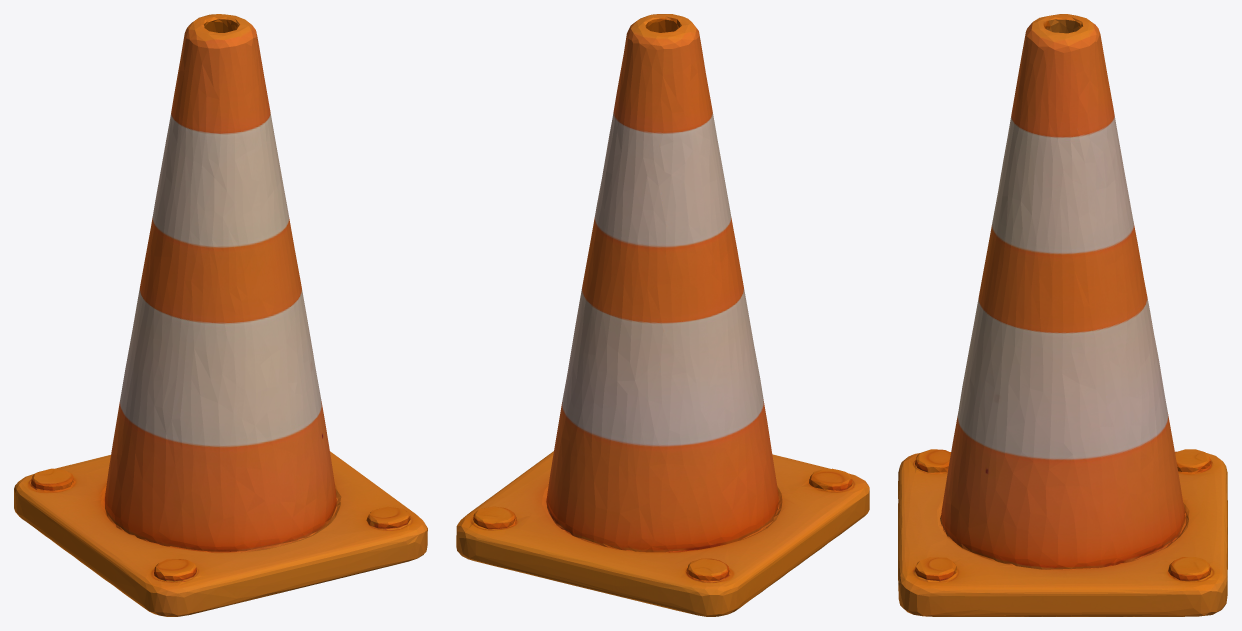
3 renders of one model, left to right at view 1: azimuth 30°, elevation 25°; view 2: azimuth 150°, elevation 25°; view 3: azimuth 270°, elevation 25°, orthographic. The views are drawn at different scales.
Parts seen in each view (by area): view 1: 0_1234_50_5.0_384_8000.obj; view 2: 0_1234_50_5.0_384_8000.obj; view 3: 0_1234_50_5.0_384_8000.obj.
Part boxes in pixels (<box>): 0_1234_50_5.0_384_8000.obj: <box>14,14,427,616</box>; 0_1234_50_5.0_384_8000.obj: <box>456,14,869,616</box>; 0_1234_50_5.0_384_8000.obj: <box>898,14,1227,616</box>.
Bounding box in the file's own units: 1.14 × 2 × 1.14.
1 material, 1 textured.
